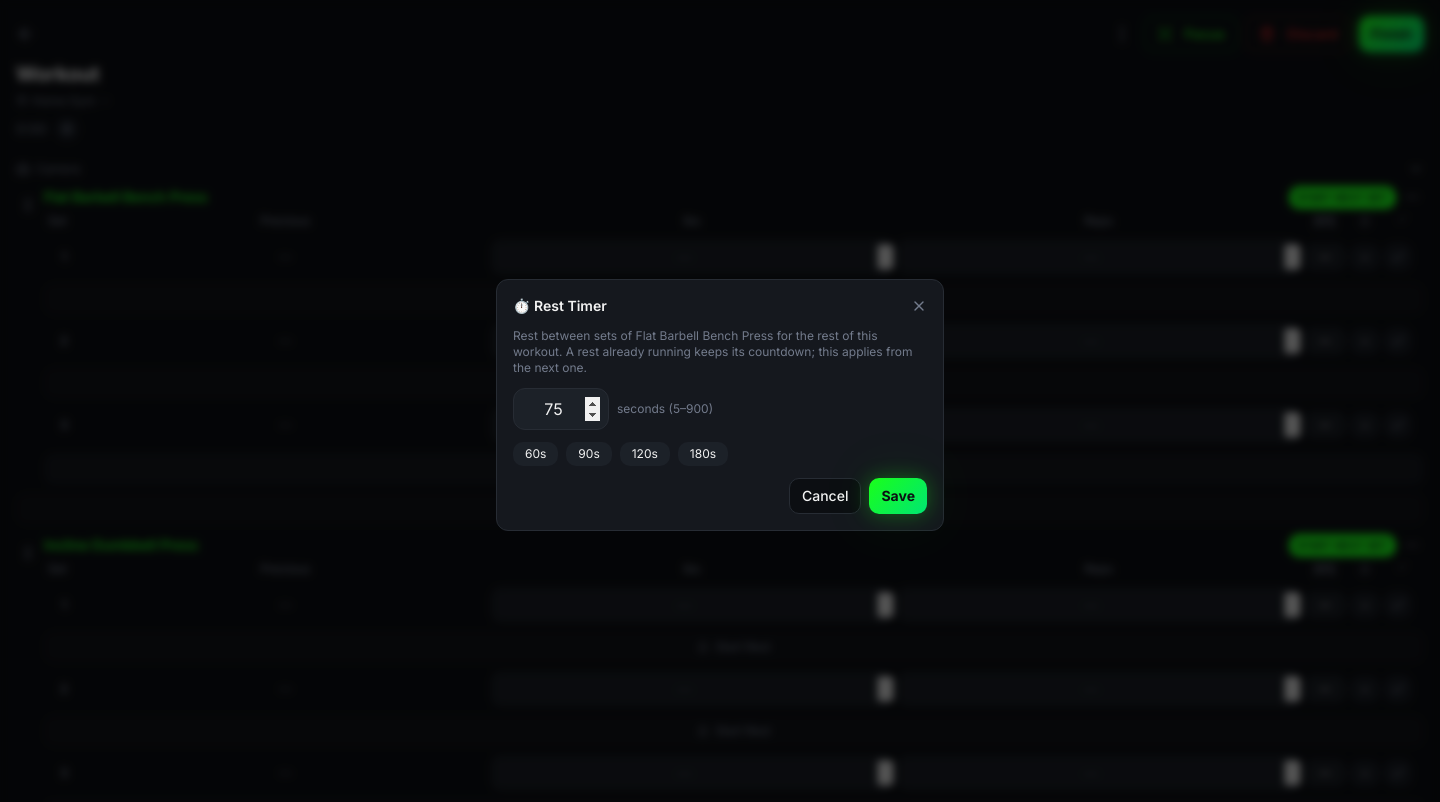
Scenario: the in-session rest-length editor › starts the next rest at the new length
The image size is (1440, 802).
Earlier steps of the test are not shown.
Replace the text in the number field named "Rest seconds" with "120" at (561, 409), box 513,388 -> 609,430
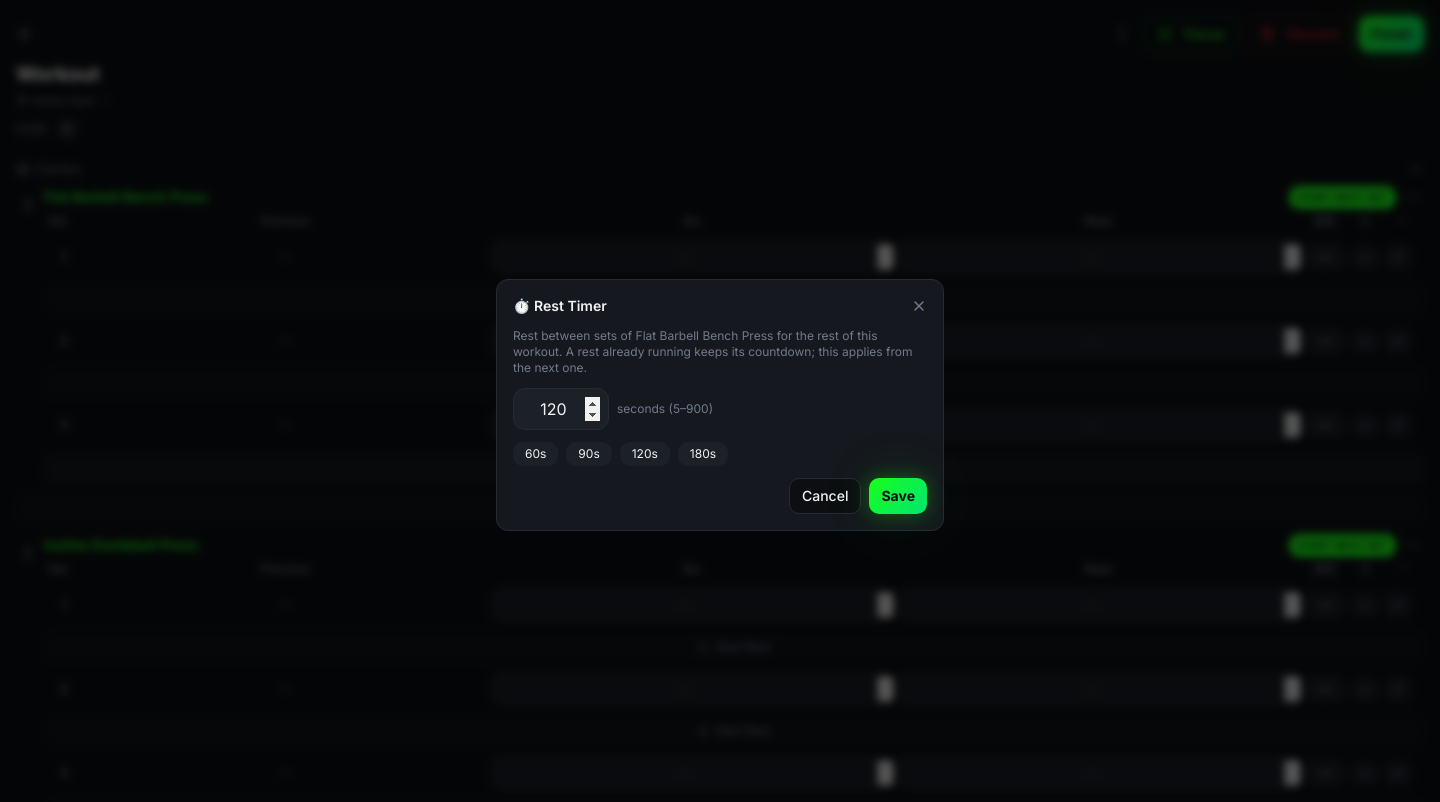
Click the button "Save".
click(898, 496)  # box 870,478 -> 927,514
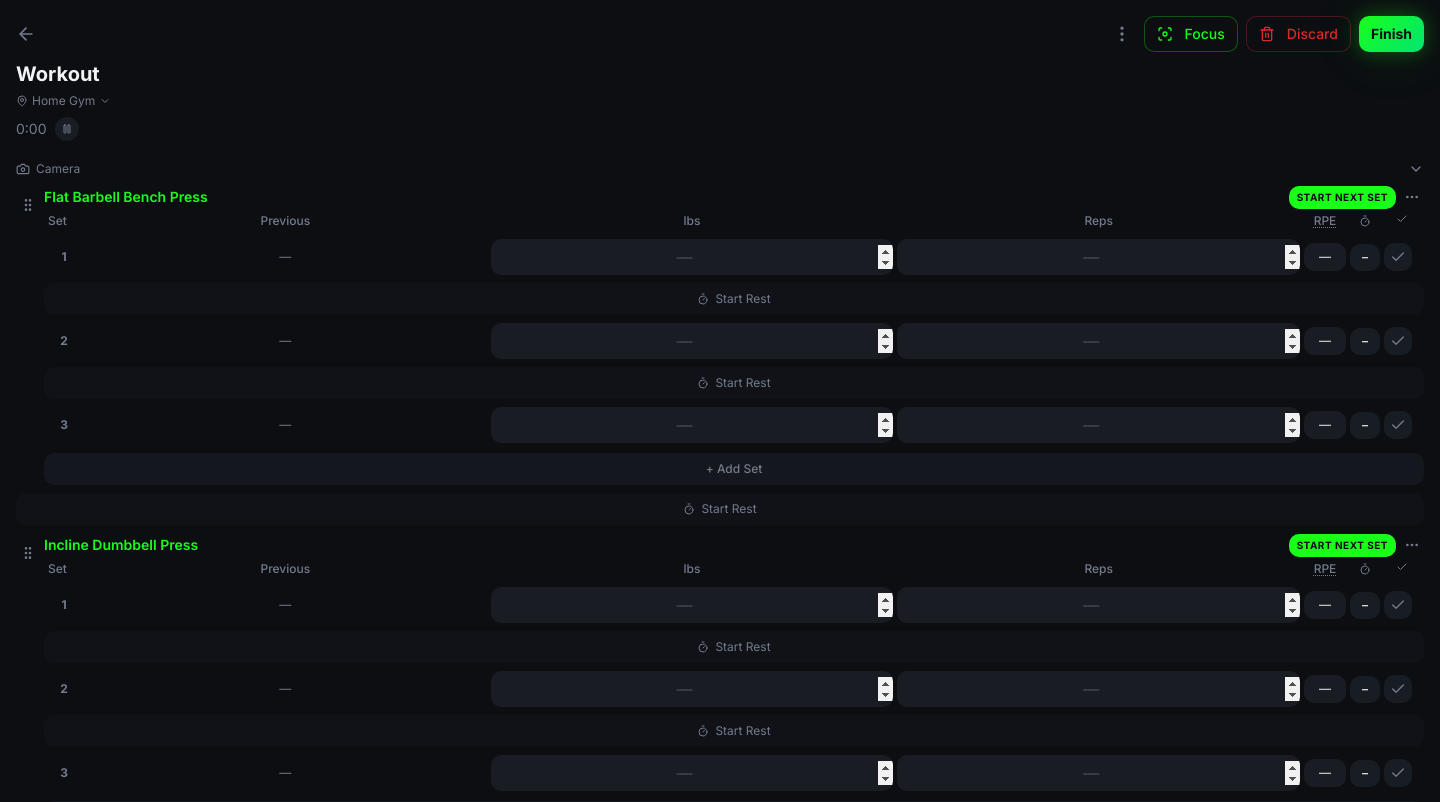
Click the 1st button "Start Rest".
click(734, 299)  # box 44,283 -> 1424,315
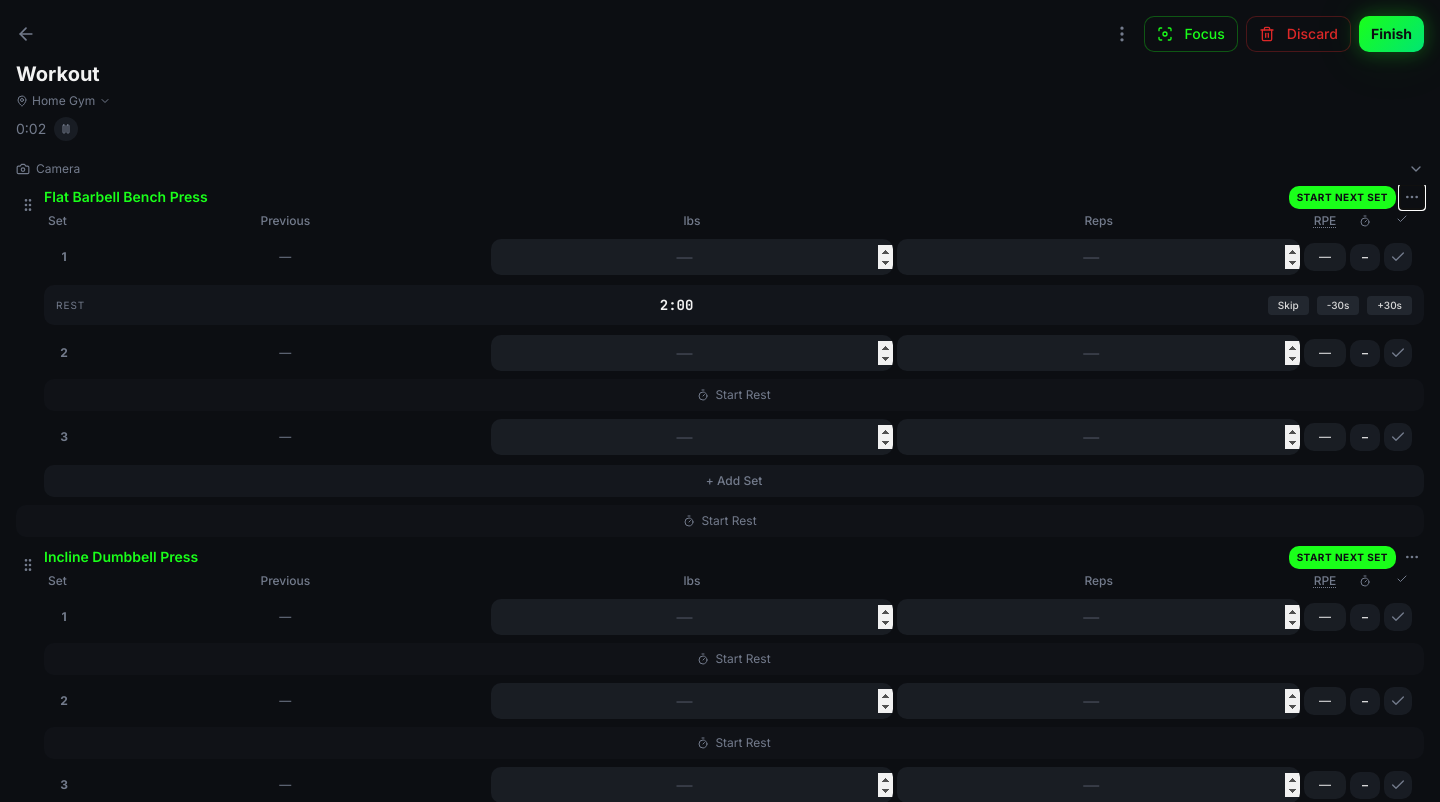
Now the text "2:00" is shown, box 660,295 -> 693,315
